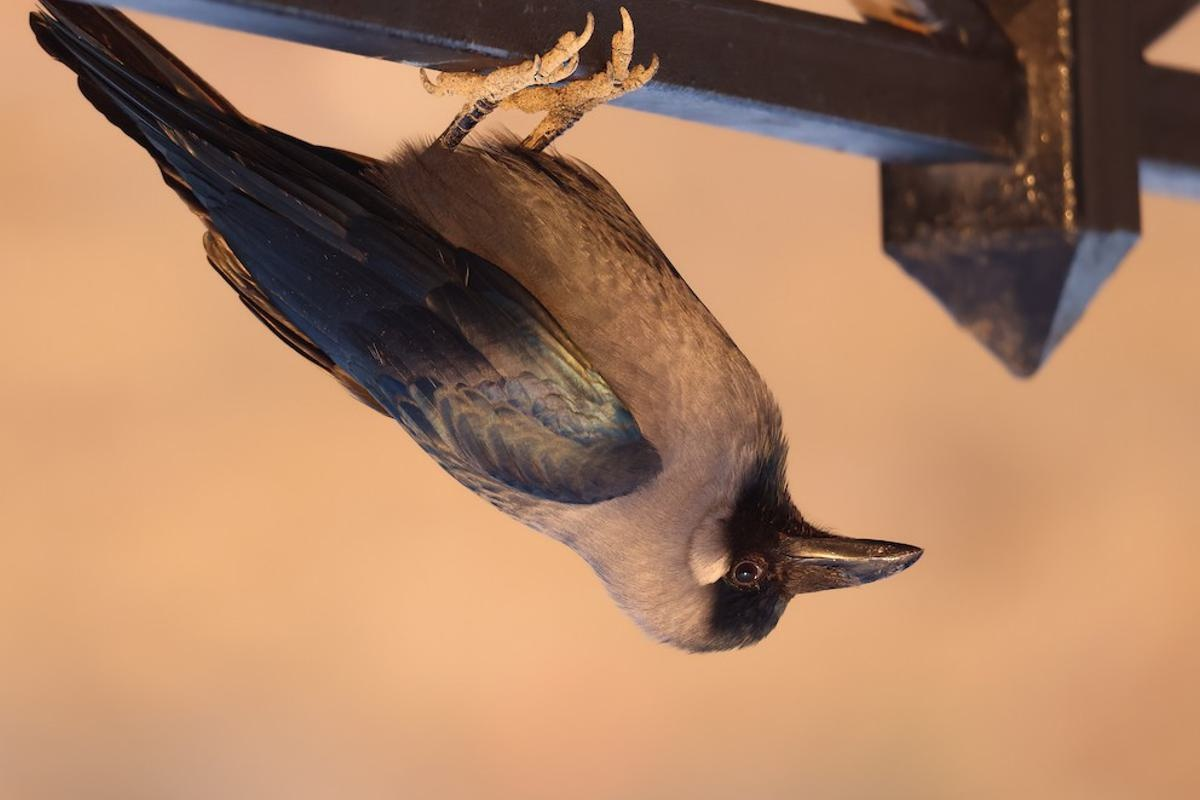crow: (52, 32, 951, 680)
